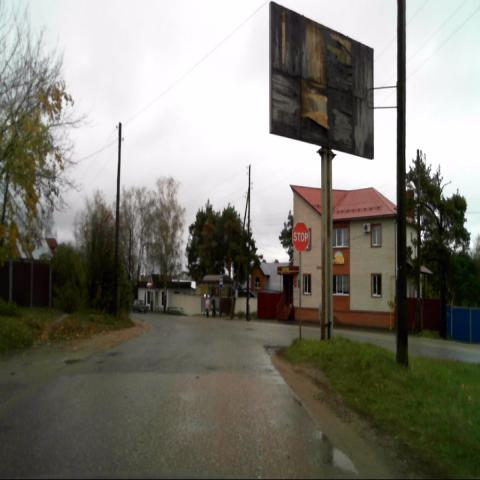2_5: (292, 222, 310, 253)
